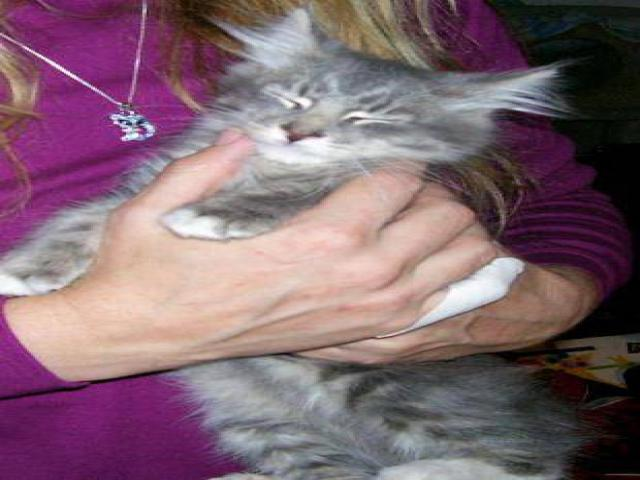cat: (34, 24, 612, 480)
